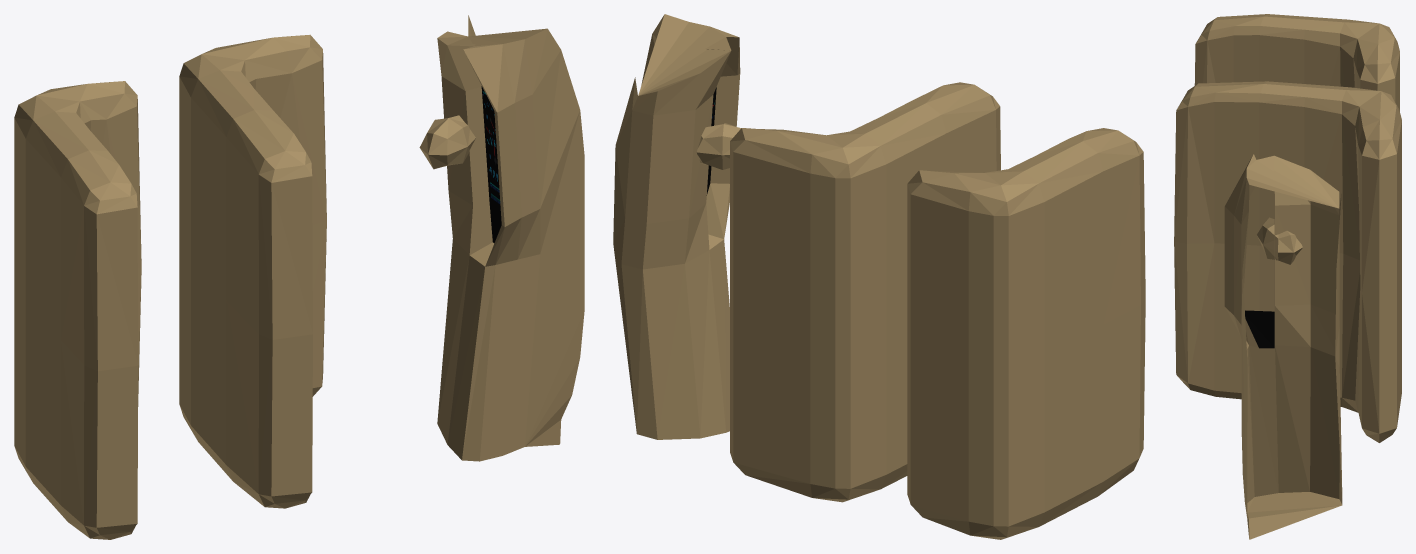
File: interior.obj
3 views of the same model, side by side, from view 1: azimuth 30°, elevation 25°; view 2: azimuth 150°, elevation 25°; view 3: azimuth 270°, elevation 25° (orthographic). The views are drawn at different scales.
Parts seen in each view (by area): view 1: chair09, chair08, Box02, steering_column, panel; view 2: chair08, chair09, Box02, steering_column; view 3: chair09, Box02, chair08, steering_column, panel.
Part boxes in pixels (box(x1,y1,x2,y2)): chair09: box(179, 34, 326, 508); chair08: box(14, 81, 141, 539); Box02: box(437, 15, 584, 461); steering_column: box(419, 115, 475, 169); panel: box(481, 86, 501, 243); chair08: box(907, 128, 1145, 539); chair09: box(730, 82, 1000, 502); Box02: box(613, 14, 740, 439); steering_column: box(697, 123, 741, 169); chair09: box(1174, 81, 1401, 442); Box02: box(1224, 154, 1342, 539); chair08: box(1194, 14, 1399, 111); steering_column: box(1257, 217, 1302, 264); panel: box(1245, 310, 1274, 348).
Bounding box in the file's own units: 2.13 × 1.65 × 0.9753.
3 materials, 1 textured.
